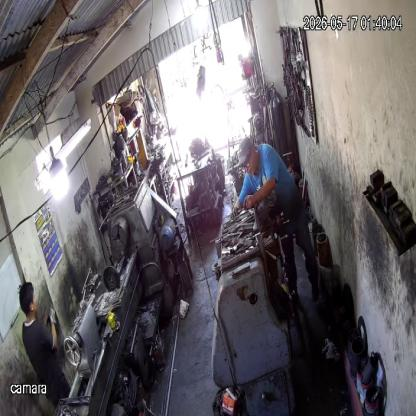lentes: (240, 156, 252, 172)
